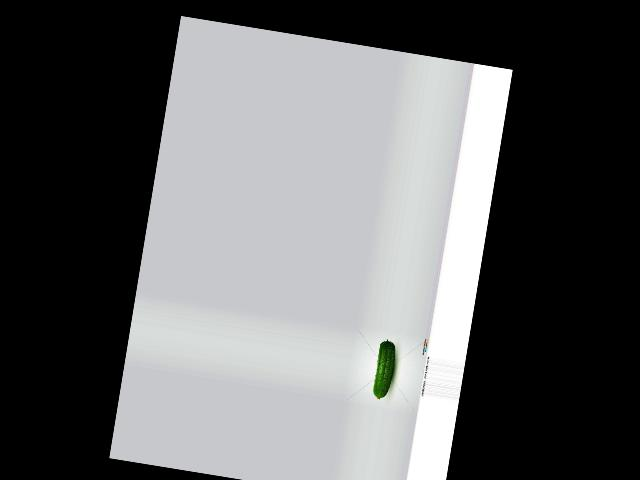cucumber: (371, 338, 398, 401)
